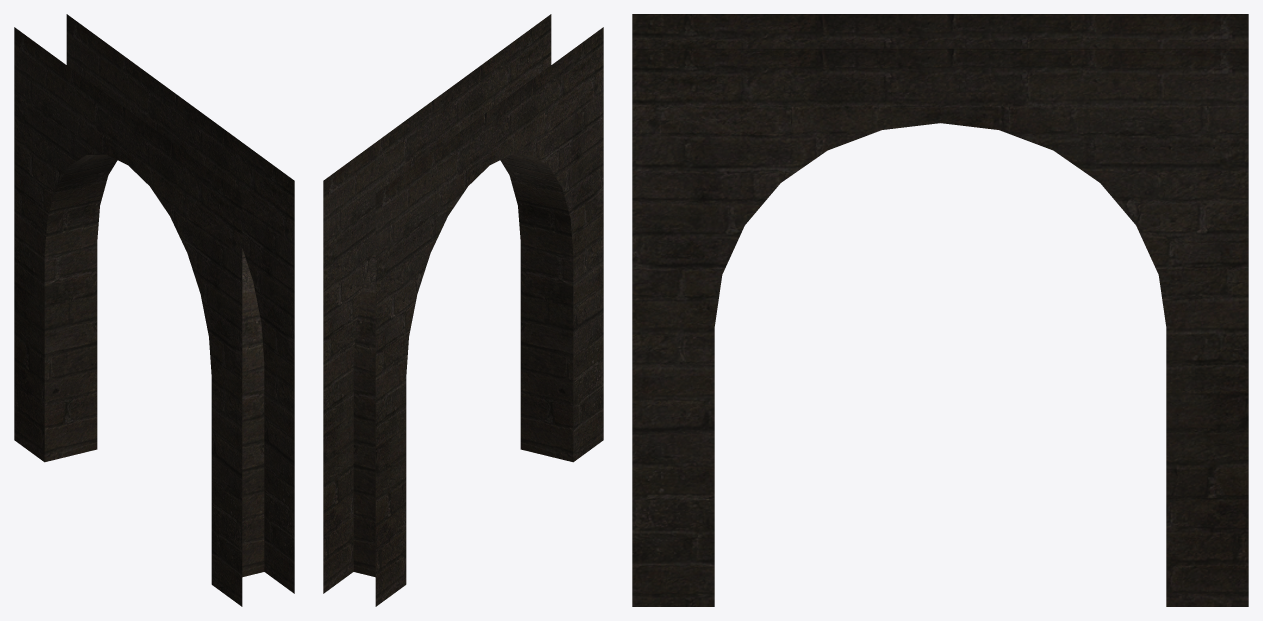
The model's file is arc_2_wall_1_plain.obj.
3 renders of one model, left to right at view 1: azimuth 30°, elevation 25°; view 2: azimuth 150°, elevation 25°; view 3: azimuth 270°, elevation 25°, orthographic. The views are drawn at different scales.
Visible parts, largest first — view 1: arc_2_wall_1_plain; view 2: arc_2_wall_1_plain; view 3: arc_2_wall_1_plain.
Boxes of the visible parts, bbox=[...] form: arc_2_wall_1_plain: bbox=[14, 14, 294, 606]; arc_2_wall_1_plain: bbox=[323, 14, 603, 606]; arc_2_wall_1_plain: bbox=[632, 14, 1248, 606].
Size of the model in its own units: 0.4 by 3 by 3.
